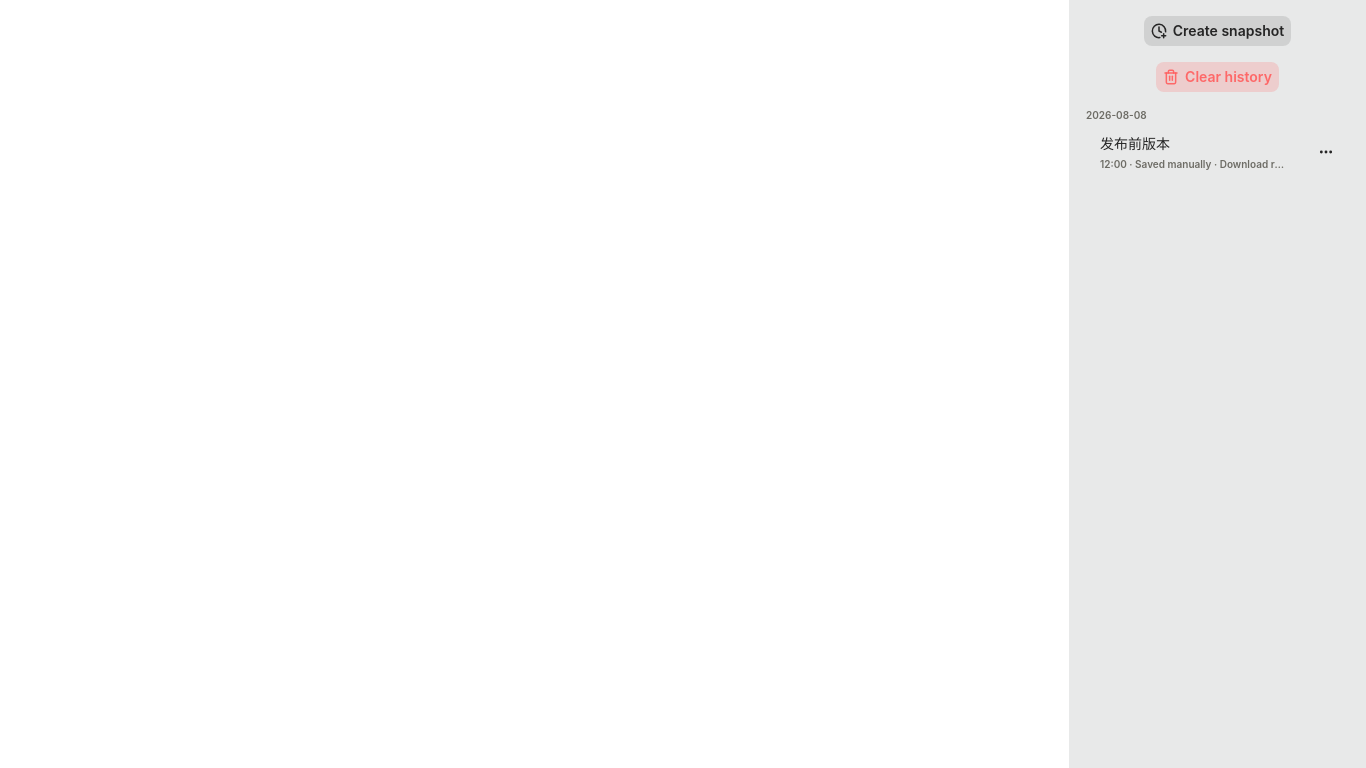
Scenario: HistoryPanel › keeps menu action 0 clickable outside the sidebar
Click the button with class "history-actions" at (1326, 152), box [1302,130,1350,174]
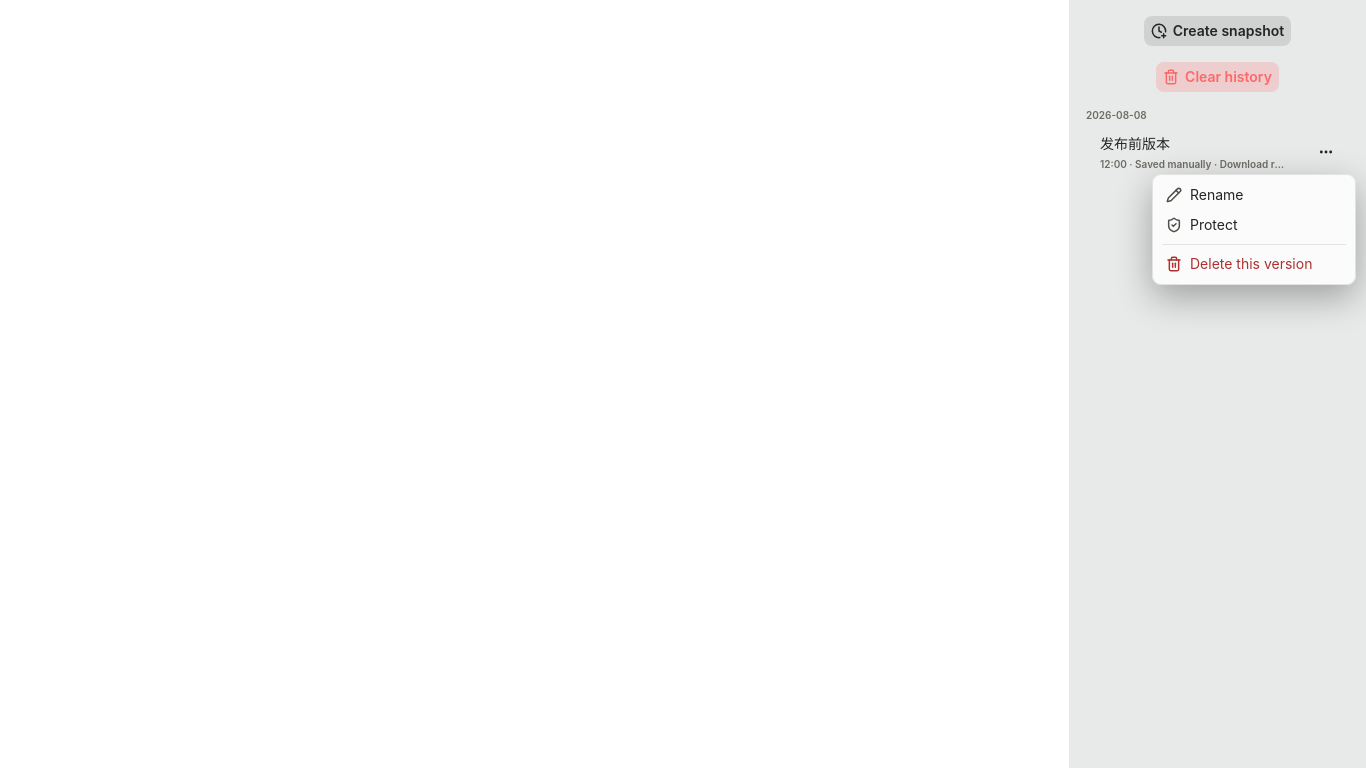
Press the mouse on the button "Rename" at (1254, 195), box [1158,180,1350,210]
Now the element with class "history-context-menu" is shown, box [1152,174,1356,285]
Click the button "Rename" at (1254, 195), box [1158,180,1350,210]
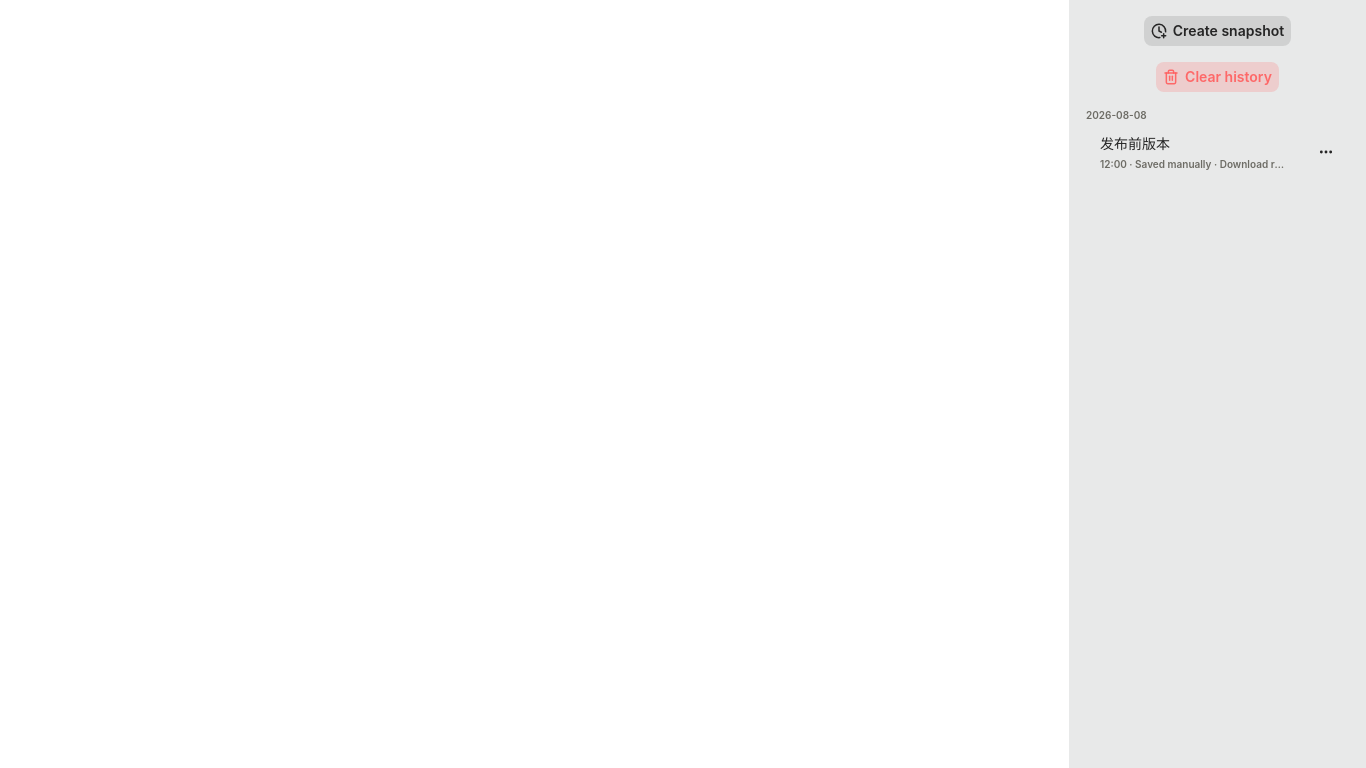
Now the element with class "history-context-menu" is gone
